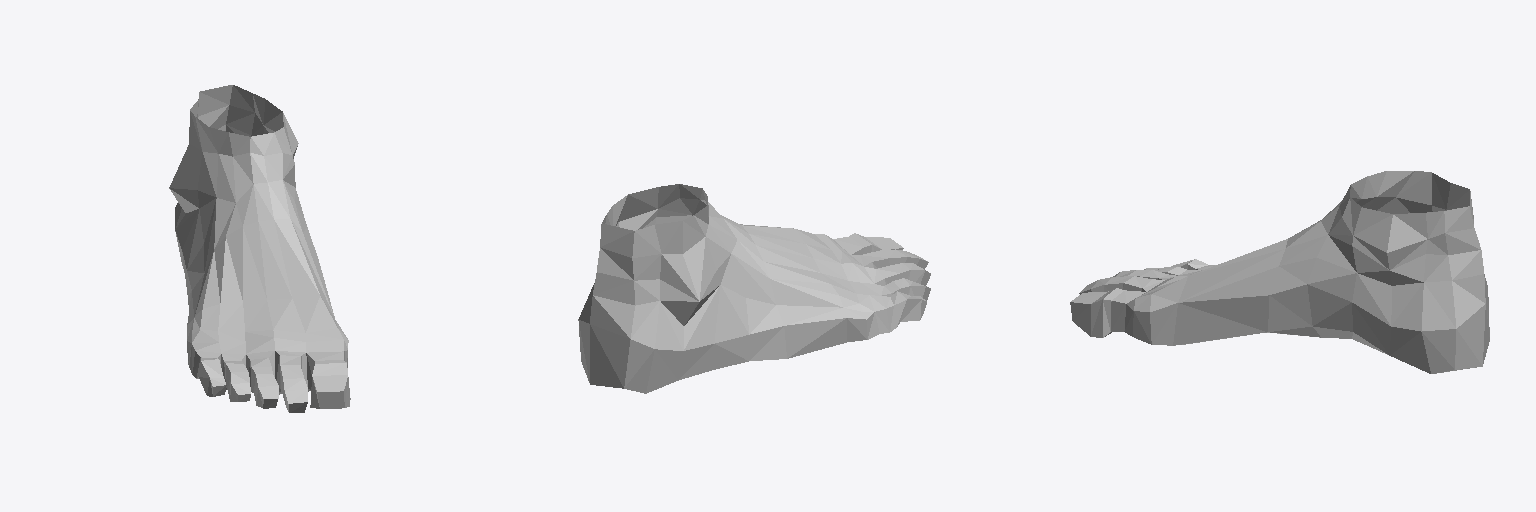
The model's file is Right Foot.obj.
The picture shows the model from 3 angles: view 1: azimuth 30°, elevation 25°; view 2: azimuth 150°, elevation 25°; view 3: azimuth 270°, elevation 25°; orthographic projection.
Visible parts, largest first — view 1: nd2_engineer_reference.002; view 2: nd2_engineer_reference.002; view 3: nd2_engineer_reference.002.
Part boxes in pixels (x1,y1,x2,y2): nd2_engineer_reference.002: (169, 85, 350, 412); nd2_engineer_reference.002: (578, 184, 930, 393); nd2_engineer_reference.002: (1070, 171, 1489, 373).
Size of the model in its own units: 7.59 by 6.35 by 13.62.